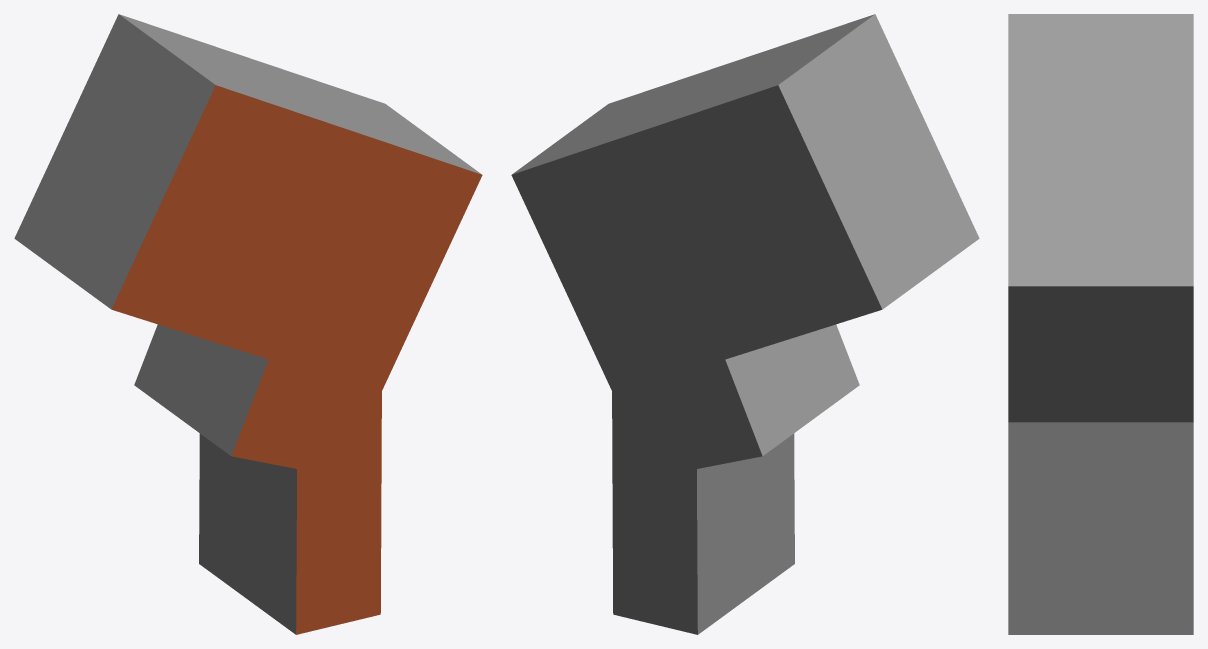
The model's file is construction_4102_assumed_A_Casa_h6m.obj.
3 views of the same model, side by side, from view 1: azimuth 30°, elevation 25°; view 2: azimuth 150°, elevation 25°; view 3: azimuth 270°, elevation 25° (orthographic). The views are drawn at different scales.
Visible parts, largest first — view 1: construction_4102_assumed_A_Casa; view 2: construction_4102_assumed_A_Casa; view 3: construction_4102_assumed_A_Casa.
Boxes of the visible parts, x1,y1,x2,y2 form: construction_4102_assumed_A_Casa: (14,14,482,634); construction_4102_assumed_A_Casa: (511,14,979,634); construction_4102_assumed_A_Casa: (1008,14,1193,634).
Size of the model in its own units: 13.23 by 19.41 by 6.
